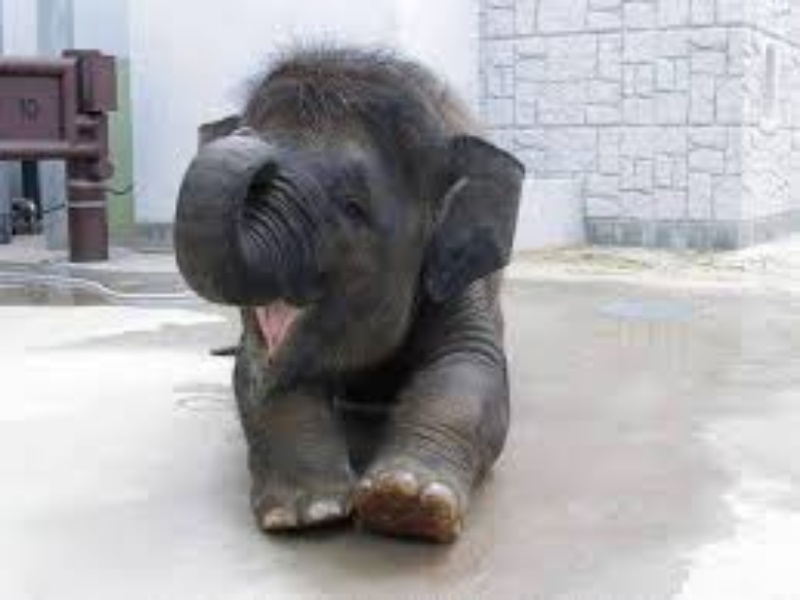elephant: (171, 43, 561, 536)
